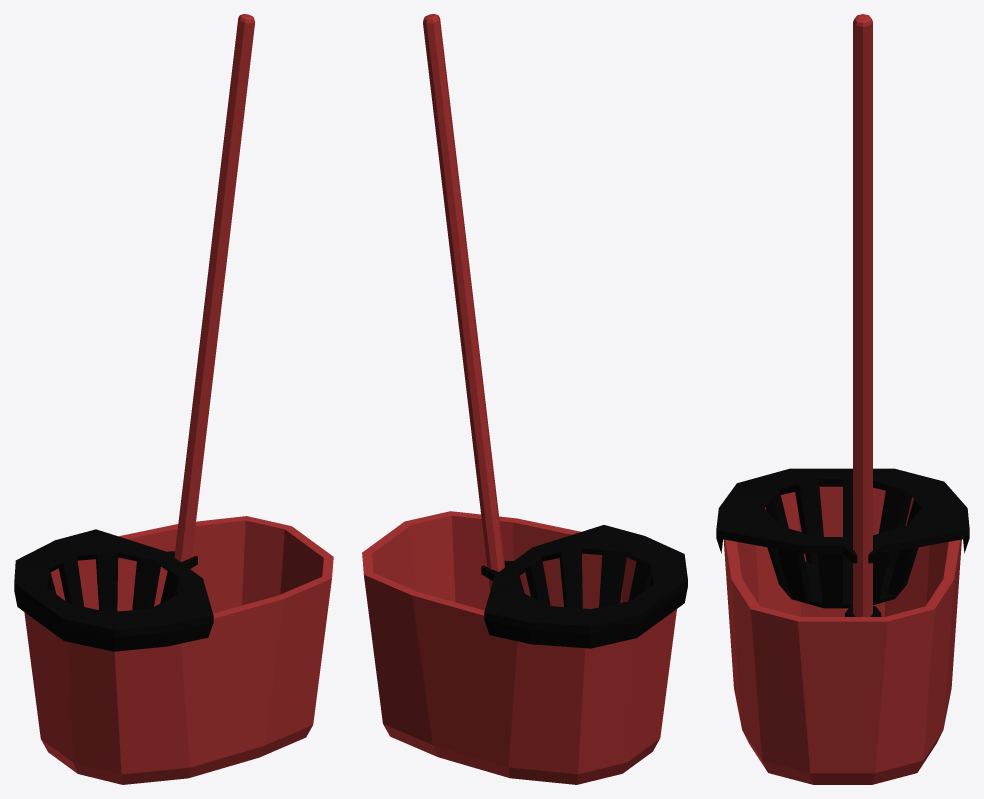
Rendered from Ma_Bucket_Mop.fbx.
3 views of the same model, side by side, from view 1: azimuth 30°, elevation 25°; view 2: azimuth 150°, elevation 25°; view 3: azimuth 270°, elevation 25° (orthographic). The views are drawn at different scales.
Visible parts, largest first — view 1: Ma_Bucket_Mop; view 2: Ma_Bucket_Mop; view 3: Ma_Bucket_Mop.
Boxes of the visible parts, box(x1,y1,x2,y2) form: Ma_Bucket_Mop: box(14, 14, 333, 784); Ma_Bucket_Mop: box(362, 14, 687, 784); Ma_Bucket_Mop: box(716, 14, 969, 784).
Size of the model in its own units: 503 by 373 by 1226.
